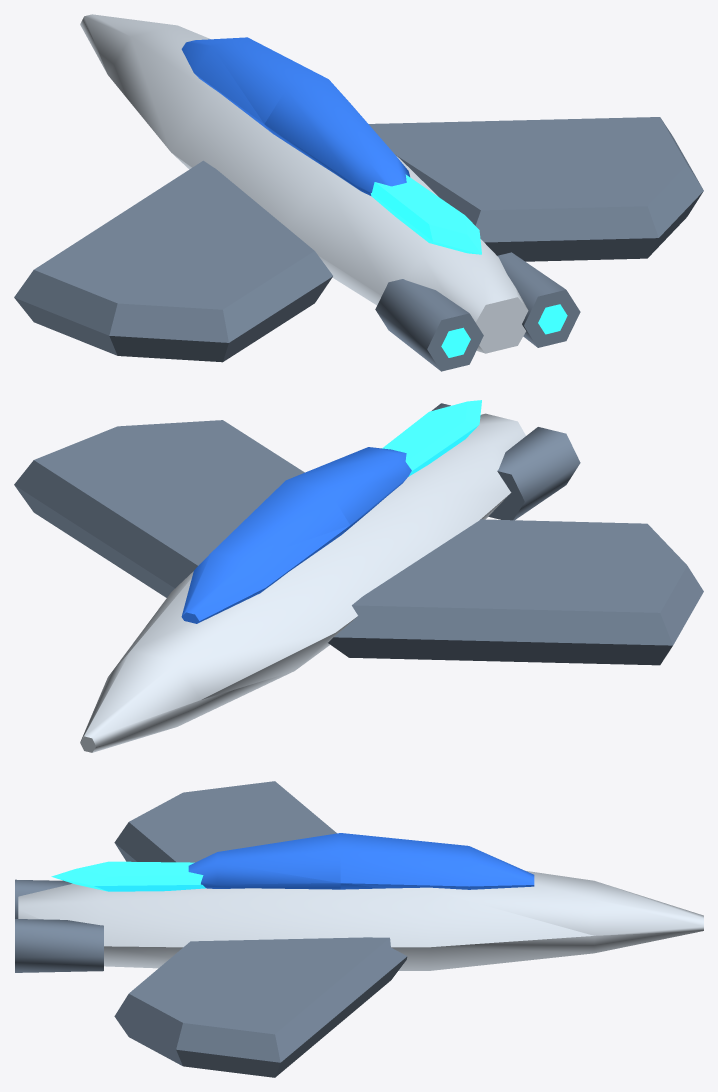
Rendered from player_ship_mockup.glb.
3 renders of one model, top to bottom at view 1: azimuth 30°, elevation 25°; view 2: azimuth 150°, elevation 25°; view 3: azimuth 270°, elevation 25°, orthographic. The views are drawn at different scales.
Parts seen in each view (by area): view 1: PLAYER // STARLANCE Mk II; view 2: PLAYER // STARLANCE Mk II; view 3: PLAYER // STARLANCE Mk II.
Boxes of the visible parts, x1,y1,x2,y2 form: PLAYER // STARLANCE Mk II: [14, 14, 703, 371]; PLAYER // STARLANCE Mk II: [14, 400, 703, 752]; PLAYER // STARLANCE Mk II: [15, 781, 703, 1077].
Bounding box in the file's own units: 3.68 × 0.737 × 4.03.
